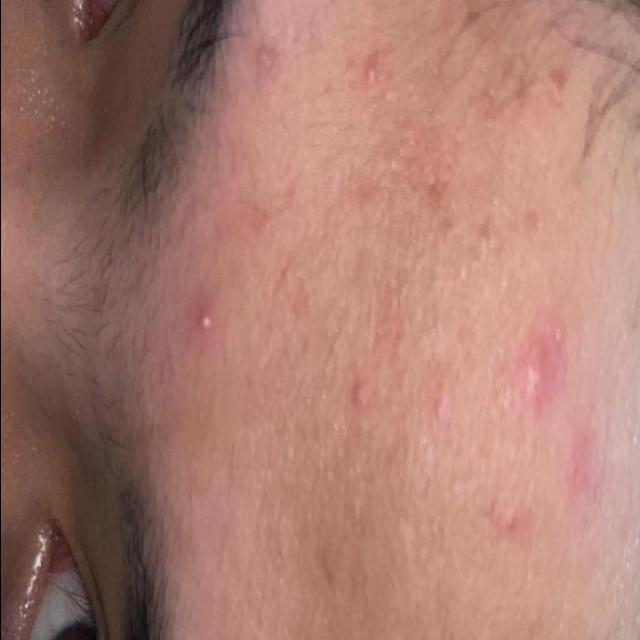papule: (459, 303, 619, 612)
pustule: (174, 294, 219, 345), (347, 36, 391, 88)
